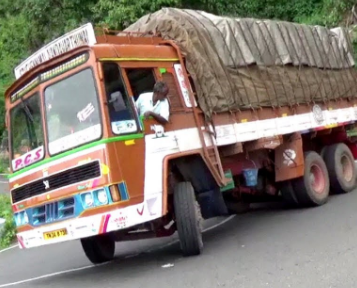truck: (5, 10, 357, 270)
